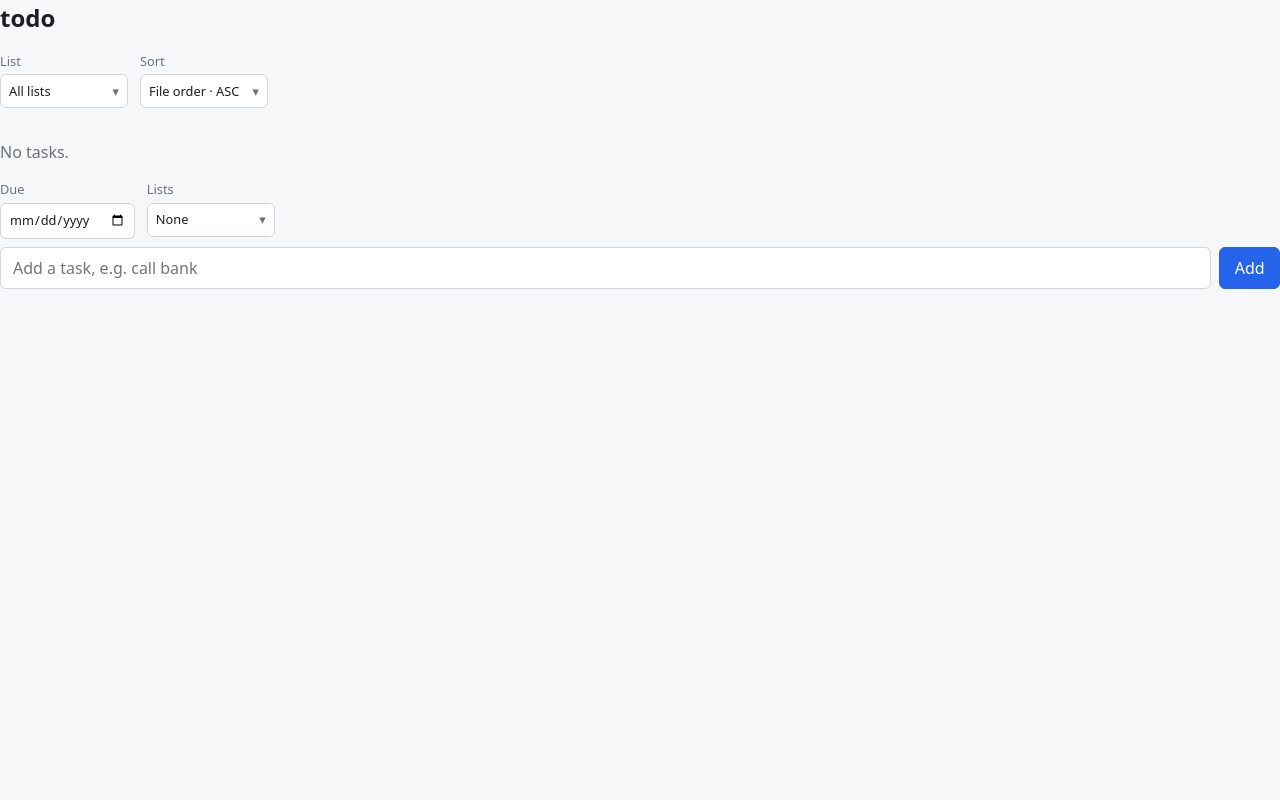
Test case: TodoPane remembered labels › uses task-derived labels when loading remembered labels fails
This screenshot has width=1280, height=800.
Click the button with aria-label "list filter" at [64, 91], box [0, 74, 128, 108]
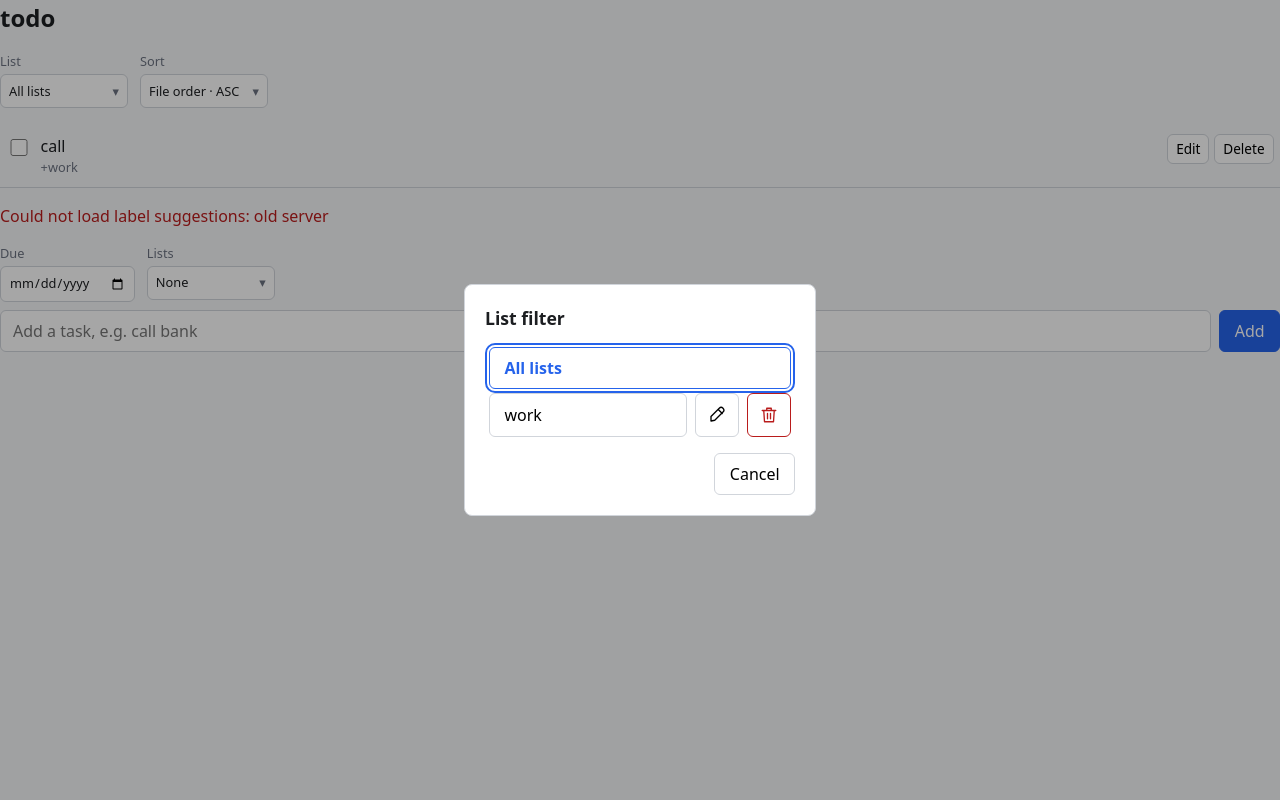
Expected: the button "work" is shown, [489, 393, 687, 437]
